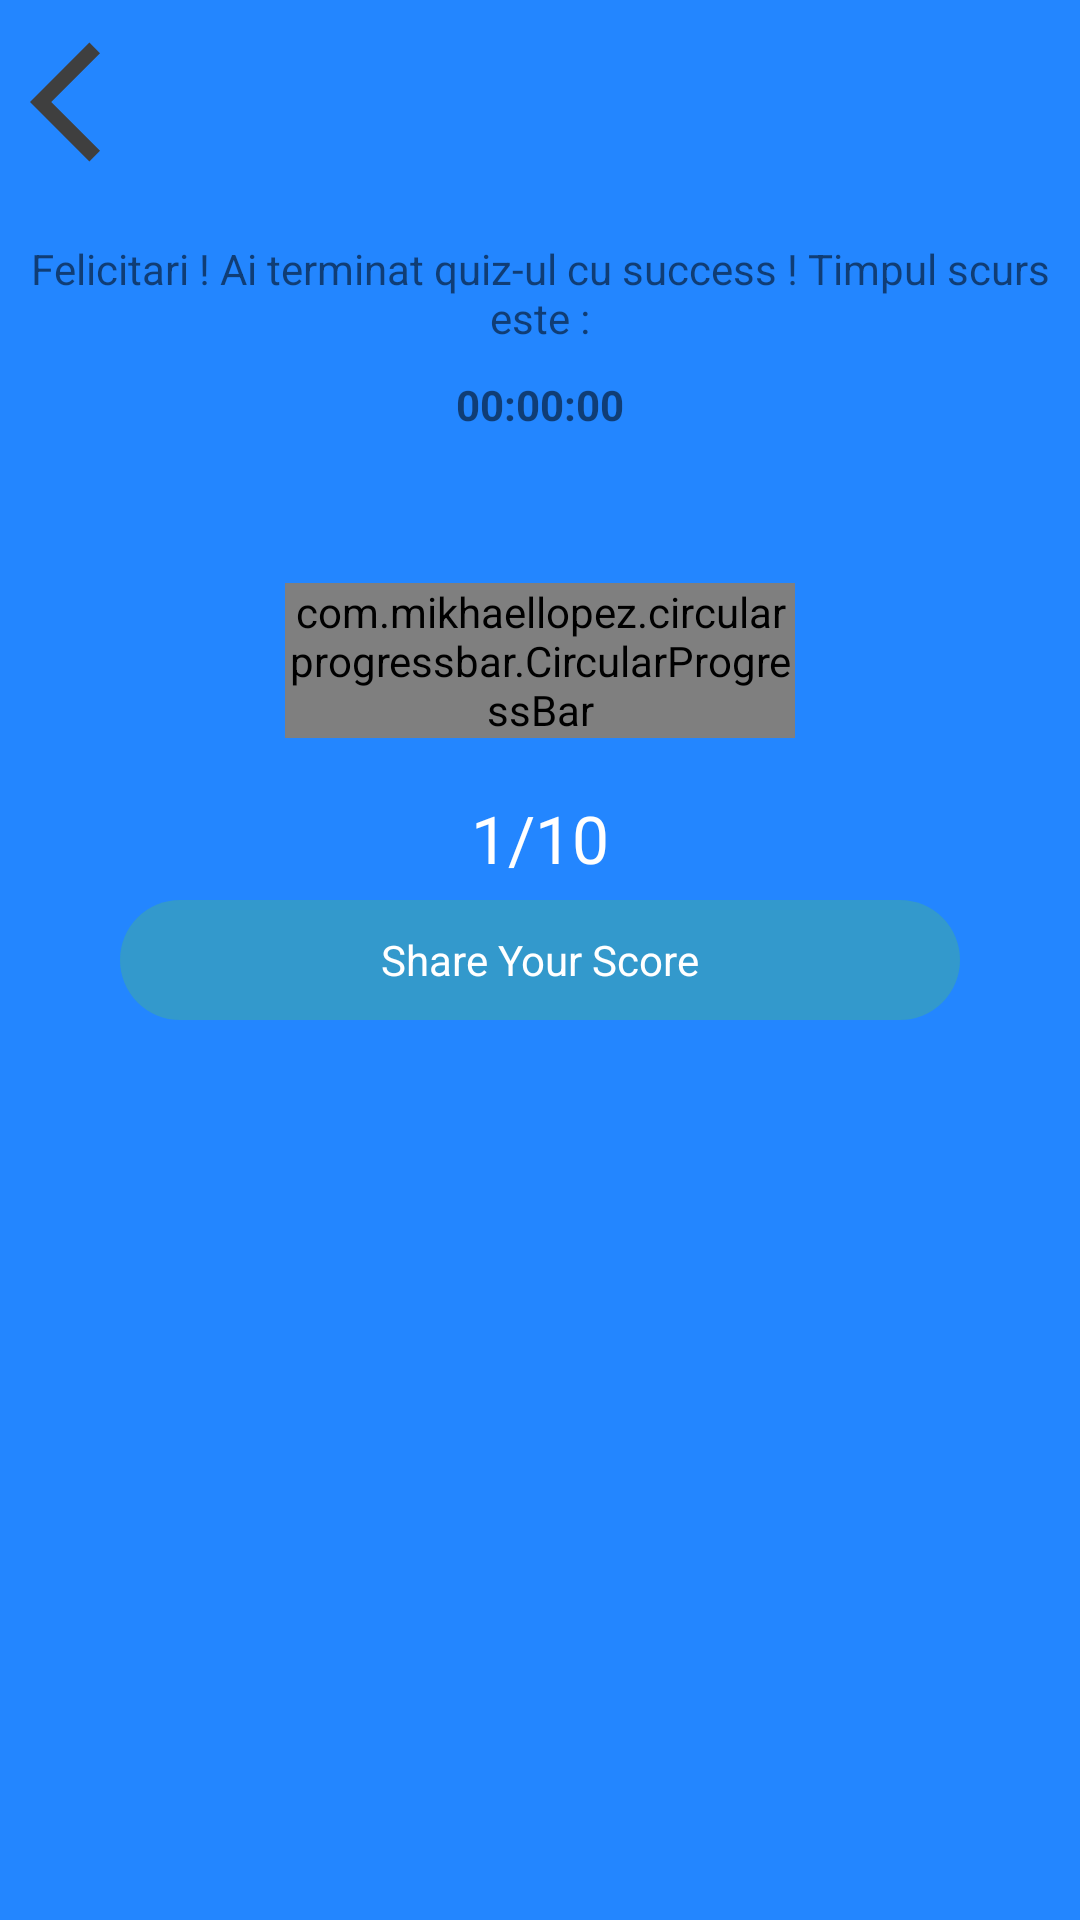

Screen size 1080×1920. Icon name, then its box in pixels as (x1, y1, x2, y2):
Back: (30, 42, 100, 162)
